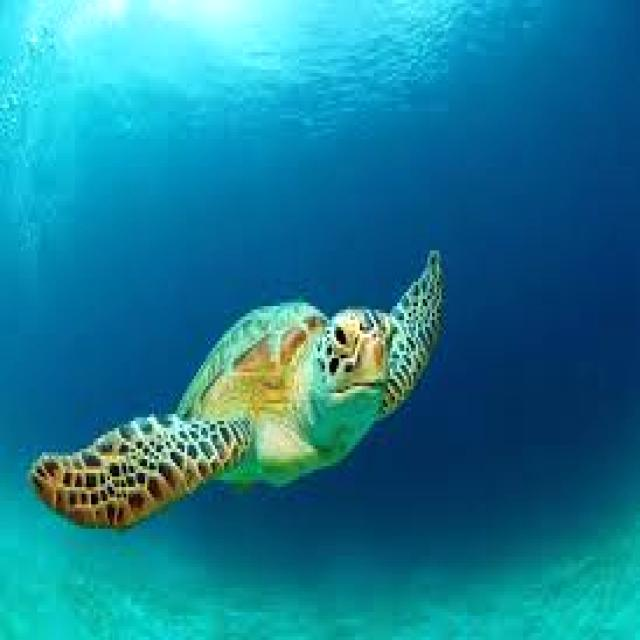Sea turtle: (26, 247, 503, 563)
